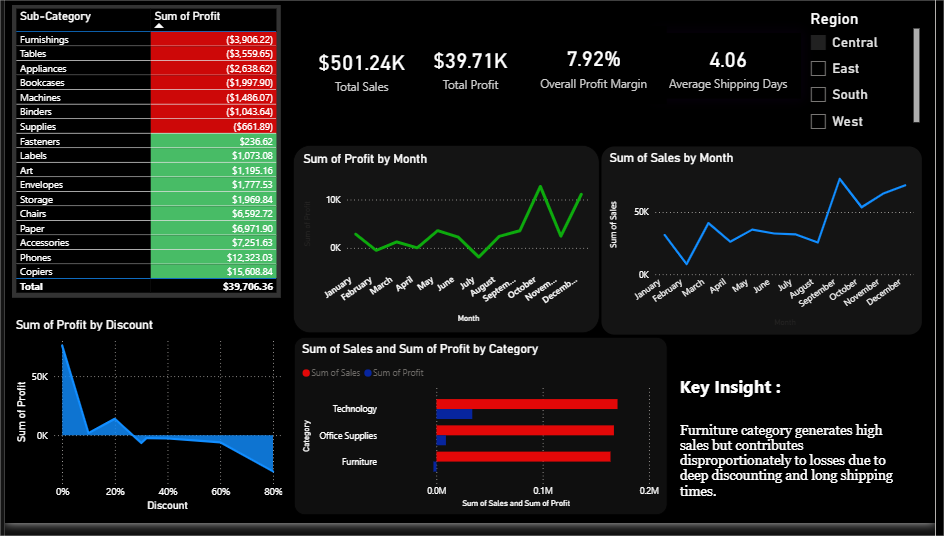

Layout of this report page (visuals, bound fields, positions):
{"tool":"powerbi","page":{"name":"Page 3","canvas":[1280,720],"ordinal":2},"visuals":[{"type":"card","fields":{"Values":["Sum(Sample - Superstore.Sales)"]},"box":[414.9,52,153.3,85.3],"z":0},{"type":"card","fields":{"Values":["Sum(Sample - Superstore.Profit)"]},"box":[568.2,41.9,144.6,102.7],"z":1000},{"type":"slicer","fields":{"Values":["Sample - Superstore.Region"]},"box":[1095.5,7.7,167.7,176.8],"z":2000},{"type":"card","fields":{"Values":["Avg(Sample - Superstore.Shipping Days)"]},"box":[894.2,45.2,201.3,90.3],"z":3000},{"type":"clusteredBarChart","fields":{"Category":["Sample - Superstore.Category"],"Y":["Sum(Sample - Superstore.Sales)","Sum(Sample - Superstore.Profit)"]},"box":[397.4,463.2,513.5,245.2],"z":4000},{"type":"lineChart","fields":{"Category":["Sample - Superstore.Order_Date.Variation.Date Hierarchy.Month"],"Y":["Sum(Sample - Superstore.Profit)"]},"box":[396.1,199.5,422.2,258.8],"z":5000},{"type":"lineChart","fields":{"Category":["Sample - Superstore.Order_Date.Variation.Date Hierarchy.Month"],"Y":["Sum(Sample - Superstore.Sales)"]},"box":[818.3,199.5,445.3,263.1],"z":6000},{"type":"tableEx","fields":{"Values":["Sample - Superstore.Sub-Category","Sum(Sample - Superstore.Profit)"]},"box":[10.1,7.2,370.1,403.4],"z":7000},{"type":"areaChart","fields":{"Category":["Sample - Superstore.Discount"],"Y":["Sum(Sample - Superstore.Profit)"]},"box":[10.1,436.6,377.3,271.8],"z":8000},{"type":"textbox","box":[923.9,475.7,332.5,232.8],"z":9000},{"type":"card","fields":{"Values":["Sample - Superstore.Measure"]},"box":[708.4,36.1,202.4,108.4],"z":10000}]}

Visuals, with their boxes in screenshot pixels (x1, y1, x2, y2), scaled from the page's 1280x720 canvas onto the 944x536 screenshot:
card - Sum(Sample - Superstore.Sales): (306,39,419,102)
card - Sum(Sample - Superstore.Profit): (419,31,526,108)
slicer - Sample - Superstore.Region: (808,6,932,137)
card - Avg(Sample - Superstore.Shipping Days): (659,34,808,101)
clusteredBarChart - Sample - Superstore.Category x Sum(Sample - Superstore.Sales): (293,345,672,527)
lineChart - Sample - Superstore.Order_Date.Variation.Date Hierarchy.Month x Sum(Sample - Superstore.Profit): (292,149,603,341)
lineChart - Sample - Superstore.Order_Date.Variation.Date Hierarchy.Month x Sum(Sample - Superstore.Sales): (603,149,932,344)
tableEx - Sample - Superstore.Sub-Category x Sum(Sample - Superstore.Profit): (7,5,280,306)
areaChart - Sample - Superstore.Discount x Sum(Sample - Superstore.Profit): (7,325,286,527)
textbox: (681,354,927,527)
card - Sample - Superstore.Measure: (522,27,672,108)
